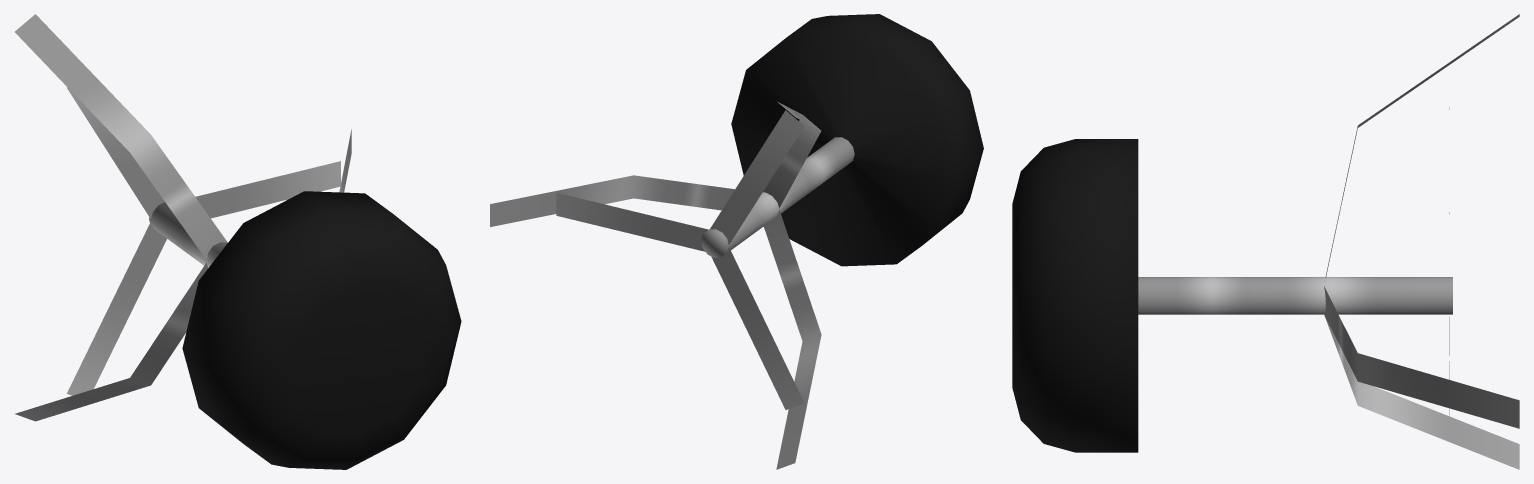
The model's file is Drumstool.obj.
The picture shows the model from 3 angles, left to right: view 1: azimuth 30°, elevation 25°; view 2: azimuth 150°, elevation 25°; view 3: azimuth 270°, elevation 25°; orthographic projection. The views are drawn at different scales.
Parts seen in each view (by area): view 1: drumStool; view 2: drumStool; view 3: drumStool.
Boxes of the visible parts, x1,y1,x2,y2 form: drumStool: [15, 14, 461, 469]; drumStool: [490, 14, 983, 469]; drumStool: [1012, 14, 1519, 469].
Size of the model in its own units: 2.79 by 3.2 by 3.22.
